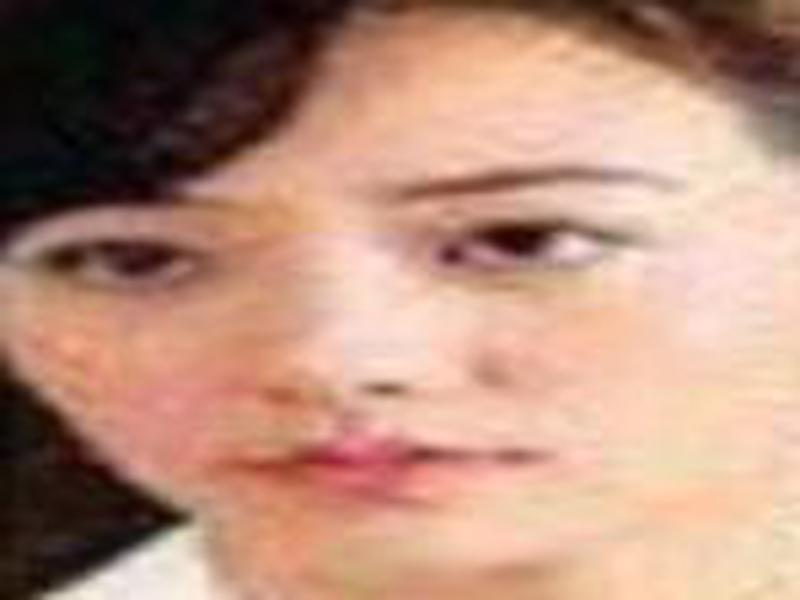without_mask: (4, 31, 774, 582)
